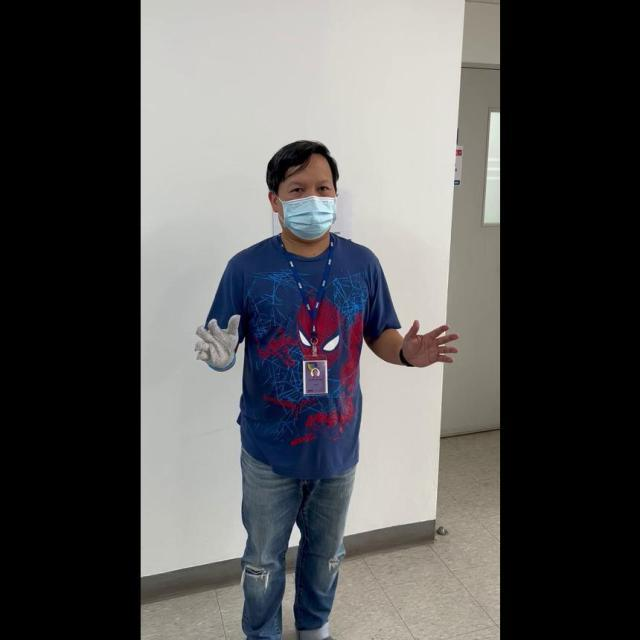bare_hand: (400, 315, 461, 368)
gloved_hand: (191, 309, 242, 373)
